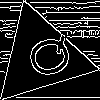Q: (16, 32, 77, 84)
